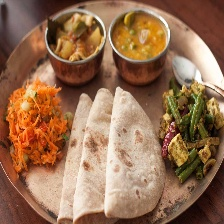roti: (57, 87, 165, 223)
